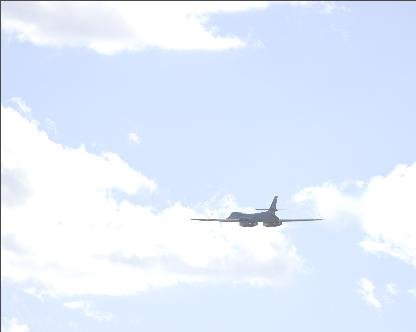AV8B: (188, 196, 326, 227)
